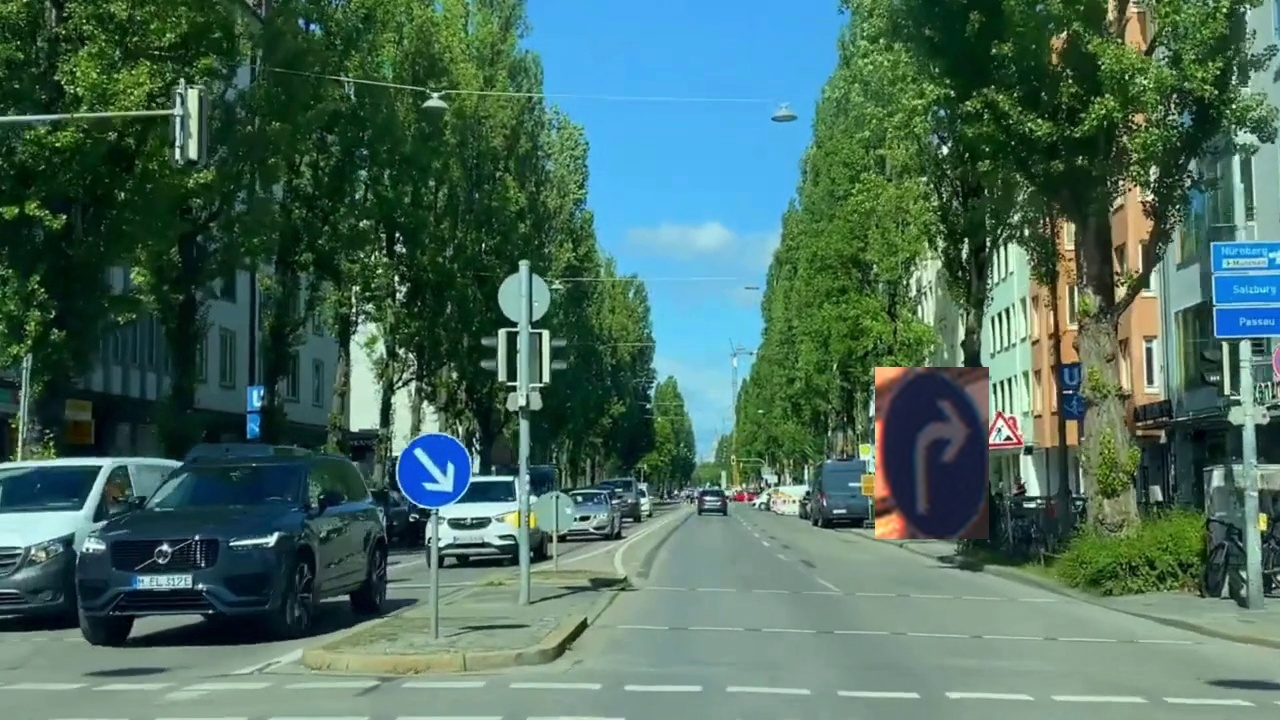Turn right: (875, 367, 989, 539)
